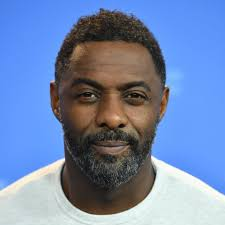person: (48, 7, 170, 187)
